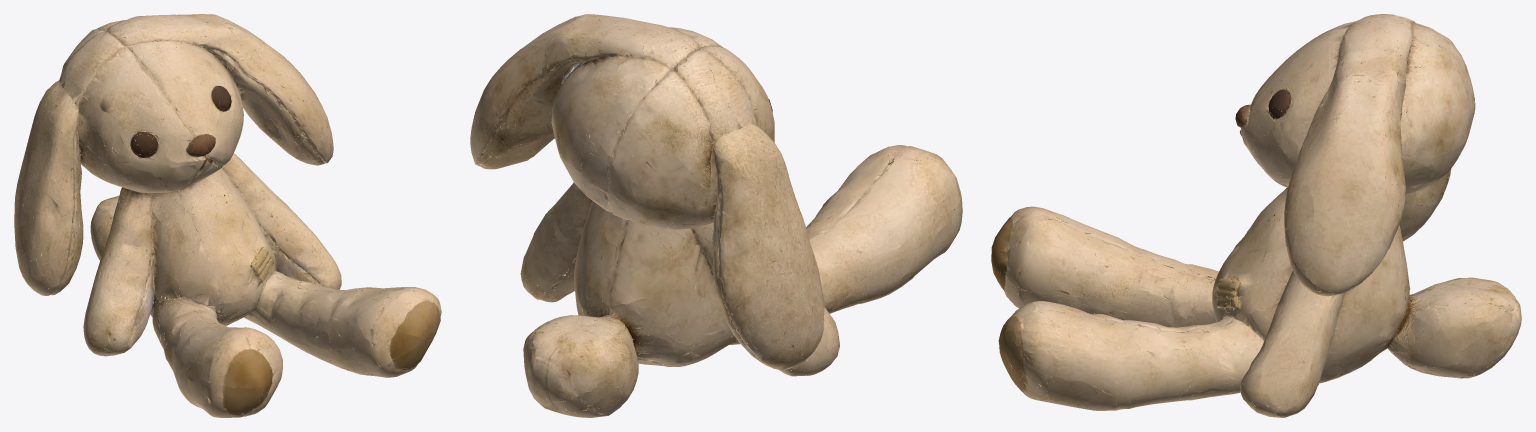
The model's file is patchwork_bunny.glb.
3 renders of one model, left to right at view 1: azimuth 30°, elevation 25°; view 2: azimuth 150°, elevation 25°; view 3: azimuth 270°, elevation 25°, orthographic. The views are drawn at different scales.
Visible parts, largest first — view 1: patchwork_bunny; view 2: patchwork_bunny; view 3: patchwork_bunny.
Part boxes in pixels (x1=…): patchwork_bunny: x1=14, y1=14, x2=441, y2=417; patchwork_bunny: x1=470, y1=14, x2=962, y2=417; patchwork_bunny: x1=991, y1=14, x2=1521, y2=417.
Size of the model in its own units: 1.74 by 1.65 by 2.4.
1 material, 1 textured.
